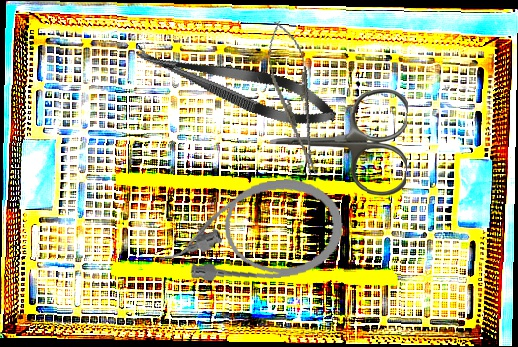Cannula: (151, 173, 349, 292)
Iris Scissors: (269, 86, 408, 197)
Micro Scissor: (129, 31, 342, 138)
Needle Holder: (258, 17, 331, 179)
